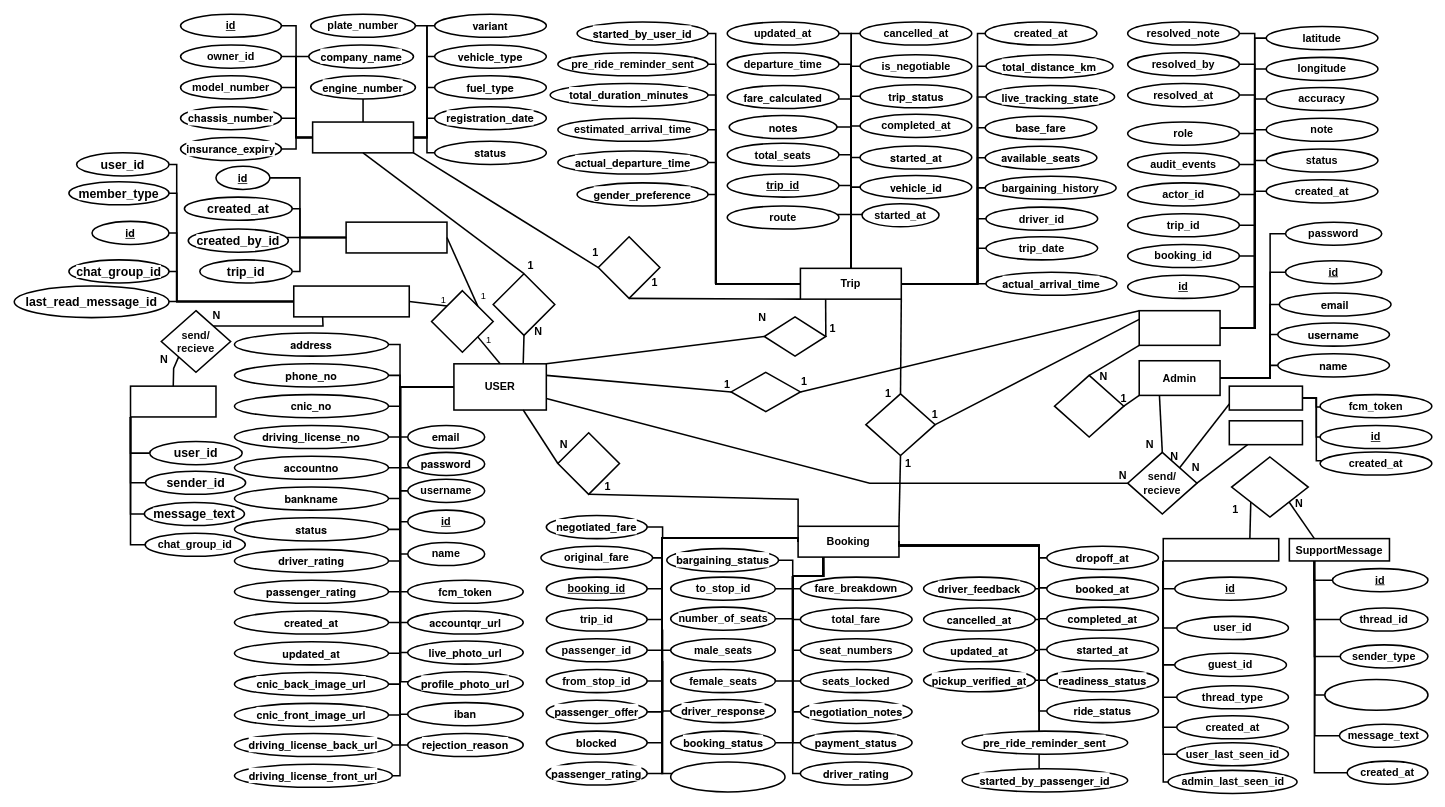
This 1445x807 diagram has some shape labels left out. The centre of each missing label's shape, as x and y in pixels:
"chat Messages" belongs at pixel 172 401.
"ChatBot" belongs at pixel 1265 432.
"ChatGroupMember" belongs at pixel 351 301.
"contains" belongs at pixel 900 424.
"creates" belongs at pixel 588 463.
"GuestUser" belongs at pixel 1265 397.
"joins" belongs at pixel 462 321.
"manages" belongs at pixel 1269 486.
"owns" belongs at pixel 523 304.
"passenger_feedback" belongs at pixel 727 776.
"posts" belongs at pixel 794 336.
"resolves" belongs at pixel 1088 405.
"sender_user_id" belongs at pixel 1376 694.
"sending" belongs at pixel 765 391.
"SosIncident" belongs at pixel 1179 328.
"SupportThread" belongs at pixel 1220 549.
"TripChatGroup" belongs at pixel 396 237.
"uses" belongs at pixel 628 267.
"vehicle" belongs at pixel 362 137.
